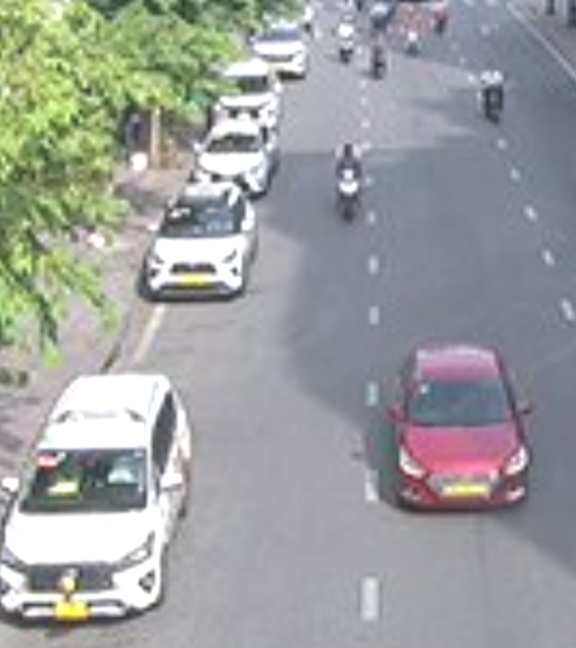car: (4, 370, 191, 627), (394, 336, 535, 520), (145, 182, 262, 302), (184, 121, 285, 192), (205, 58, 288, 123), (248, 20, 314, 81)
